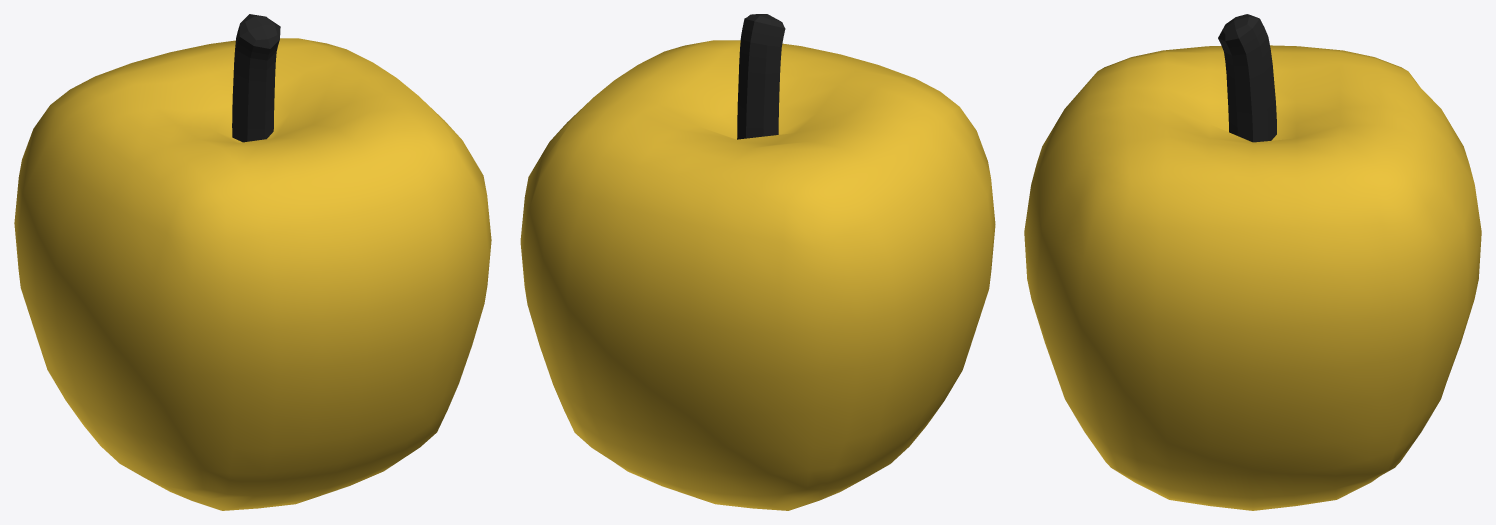
Rendered from Maca.fbx.
3 views of the same model, side by side, from view 1: azimuth 30°, elevation 25°; view 2: azimuth 150°, elevation 25°; view 3: azimuth 270°, elevation 25° (orthographic).
Parts seen in each view (by area): view 1: Maca; view 2: Maca; view 3: Maca.
Boxes of the visible parts, box(x1,y1,x2,y2) form: Maca: box(14, 14, 491, 510); Maca: box(520, 14, 995, 510); Maca: box(1024, 14, 1481, 510).
Size of the model in its own units: 29.58 by 33.5 by 29.58.
